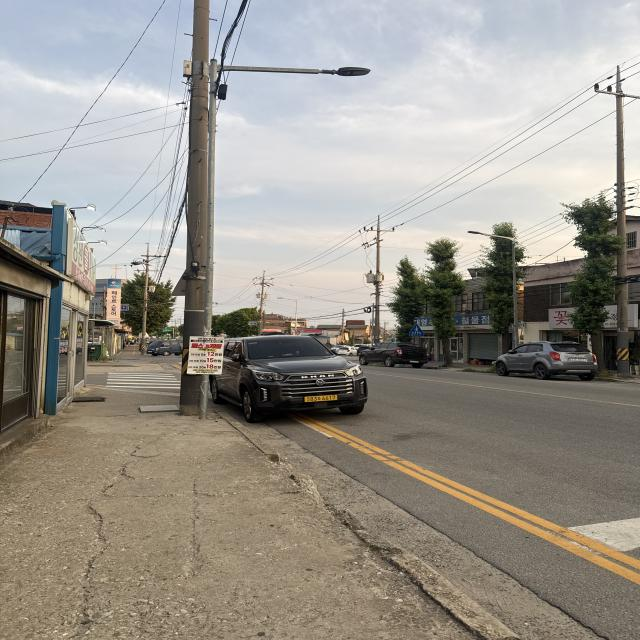car: (179, 320, 370, 426), (493, 340, 598, 380), (357, 336, 451, 377), (142, 334, 193, 364)
